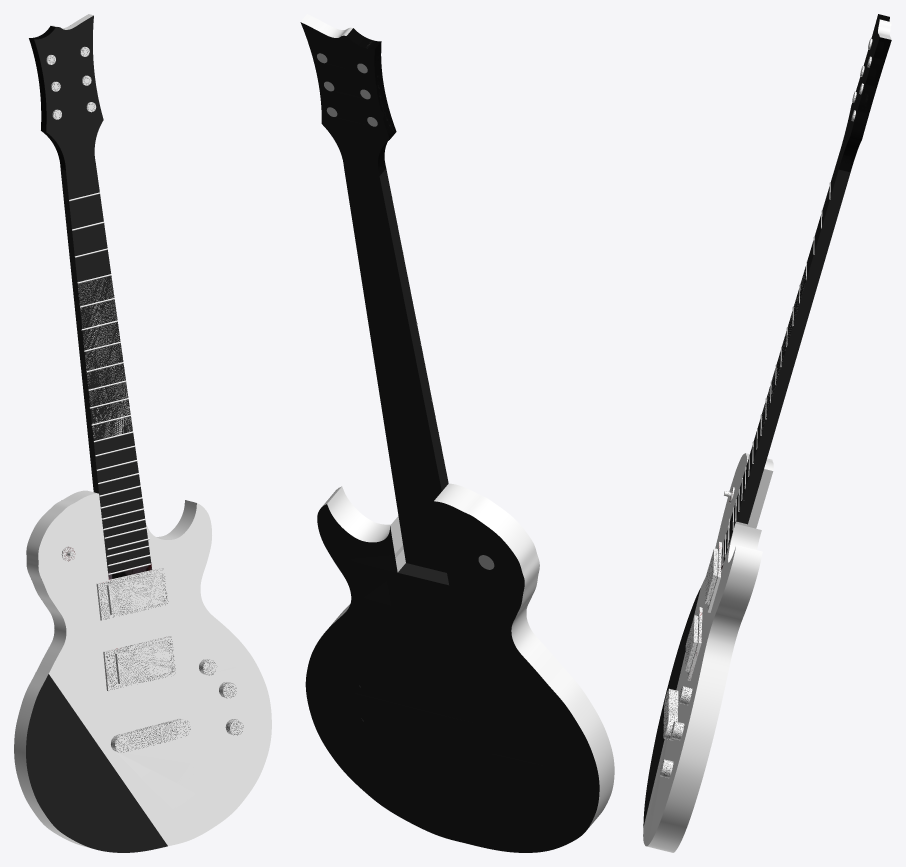
Rendered from guitar.dae.
The picture shows the model from 3 angles, left to right: view 1: azimuth 30°, elevation 25°; view 2: azimuth 150°, elevation 25°; view 3: azimuth 270°, elevation 25°; orthographic projection. The views are drawn at different scales.
Visible parts, largest first — view 1: skpB0CB (×13); view 2: skpB0CB (×8); view 3: skpB0CB (×10).
Part boxes in pixels (left/top/right/bottom): skpB0CB (×13): left=14, top=15, right=271, bottom=852; skpB0CB (×8): left=300, top=22, right=614, bottom=852; skpB0CB (×10): left=643, top=15, right=891, bottom=852.
Bounding box in the file's own units: 18.22 × 14.84 × 53.71.
Materials: 8 (2 with a texture image).
